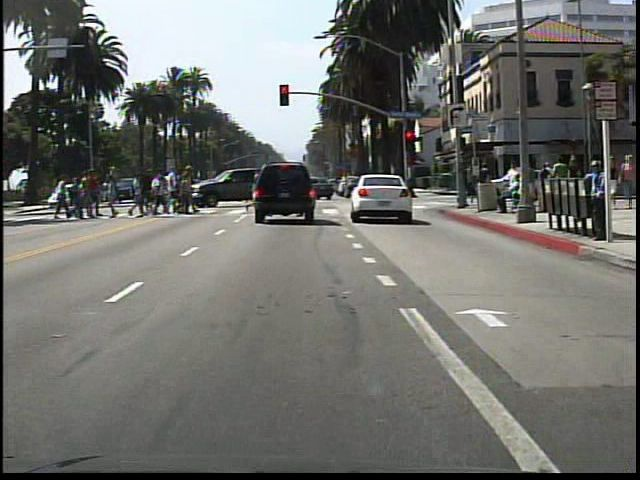person: (582, 156, 607, 243), (598, 152, 621, 208), (617, 151, 635, 212)
